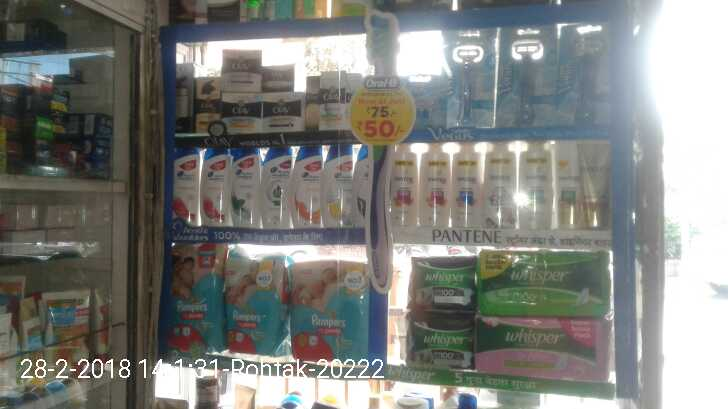venus: (500, 24, 558, 126), (558, 21, 611, 126), (451, 24, 500, 130), (408, 75, 451, 130)
